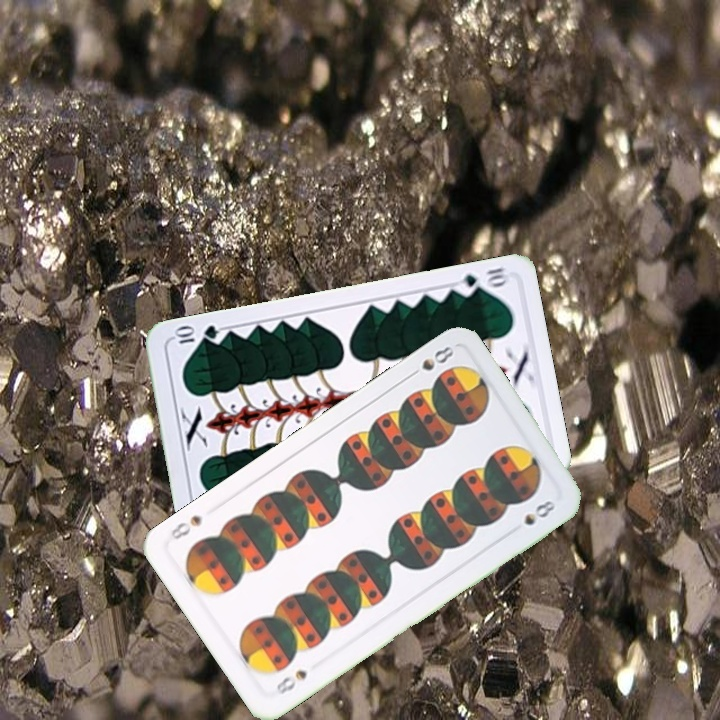G10: (451, 263, 511, 298)
S8: (403, 342, 457, 381), (272, 665, 310, 697)
